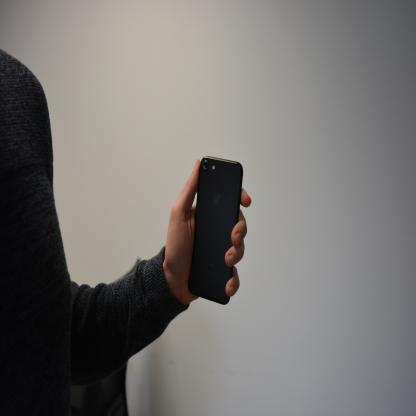smartphone: (188, 155, 244, 305)
